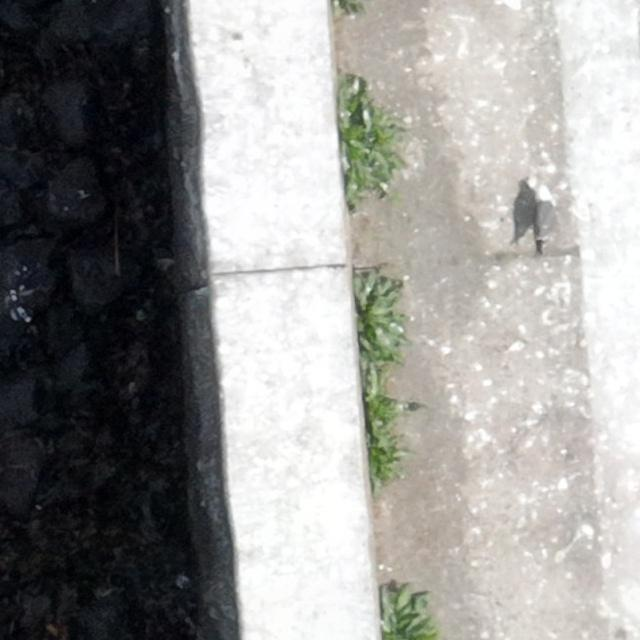umineko: (532, 181, 558, 245)
